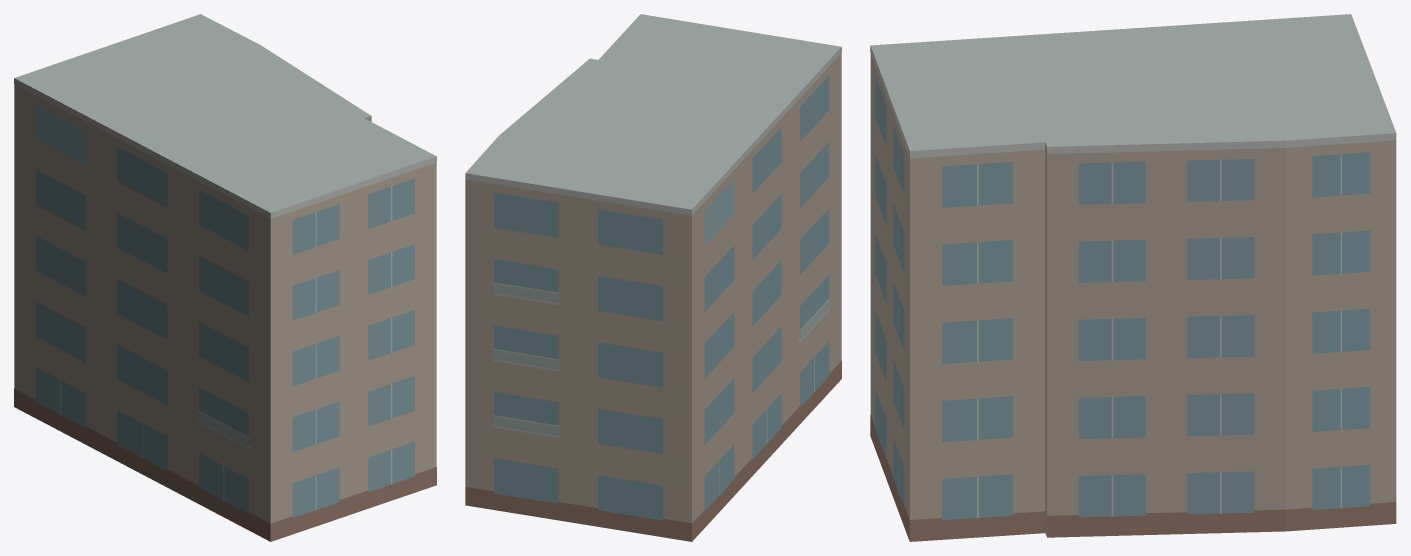
Rendered from survey-upis-32848254.glb.
3 views of the same model, side by side, from view 1: azimuth 30°, elevation 25°; view 2: azimuth 150°, elevation 25°; view 3: azimuth 270°, elevation 25° (orthographic). The views are drawn at different scales.
Parts seen in each view (by area): view 1: survey-upis-32848254.tmp; view 2: survey-upis-32848254.tmp; view 3: survey-upis-32848254.tmp.
Boxes of the visible parts, bbox=[...] form: survey-upis-32848254.tmp: bbox=[14, 14, 436, 541]; survey-upis-32848254.tmp: bbox=[465, 14, 841, 541]; survey-upis-32848254.tmp: bbox=[870, 14, 1396, 541].
Bounding box in the file's own units: 9.95 × 13.2 × 16.12.
